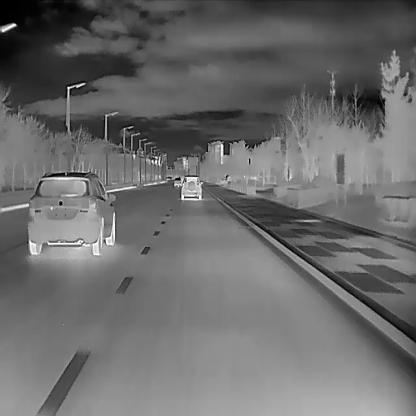car: (26, 170, 115, 255), (180, 174, 202, 200), (173, 177, 182, 187)
